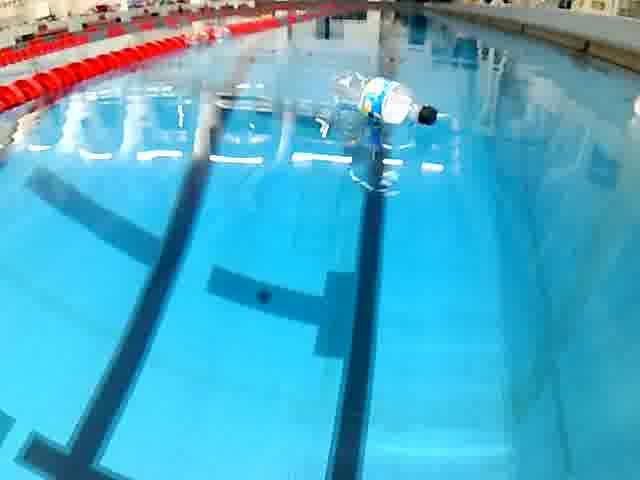Bottle: (322, 66, 442, 132), (189, 25, 231, 47)
